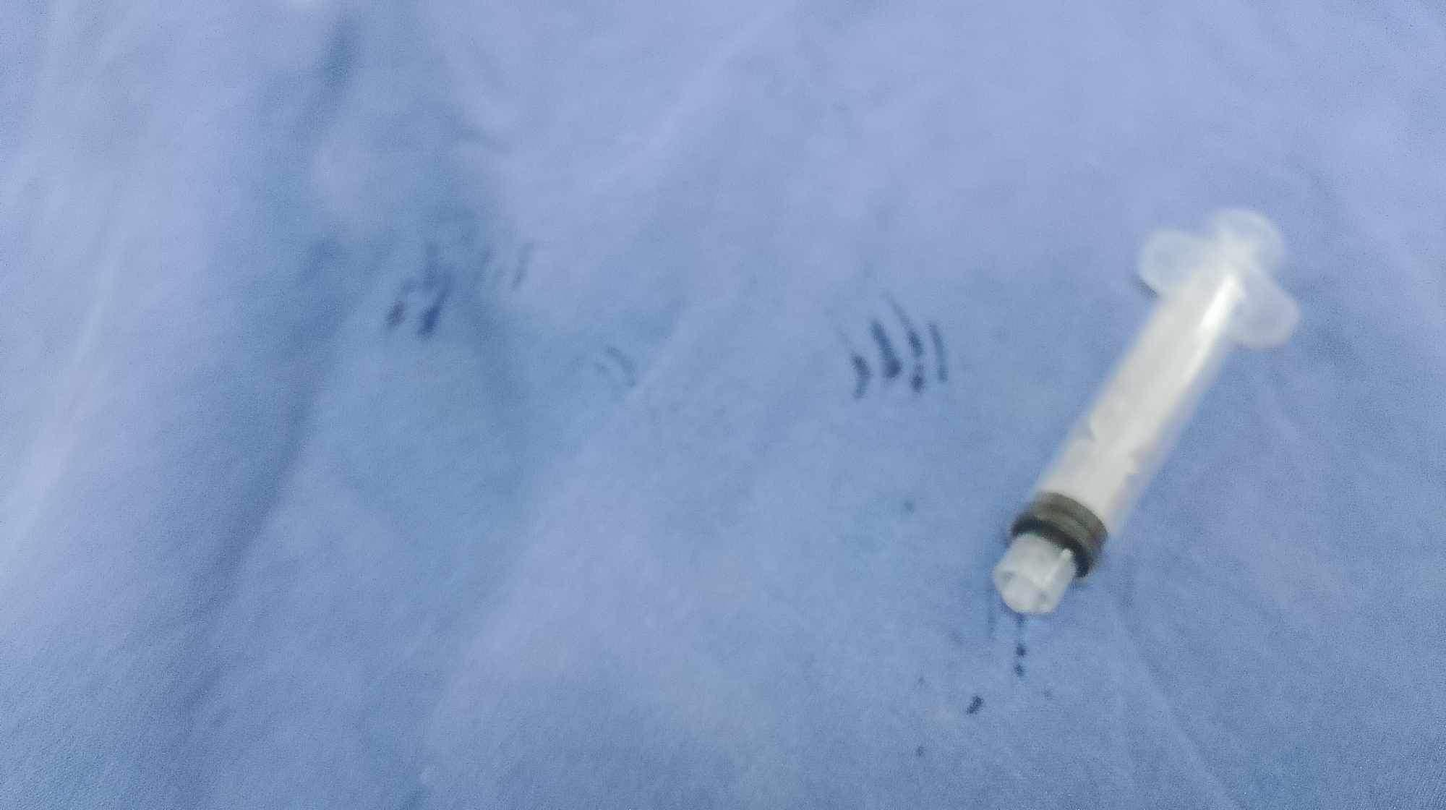Sharps: (989, 205, 1301, 618)
